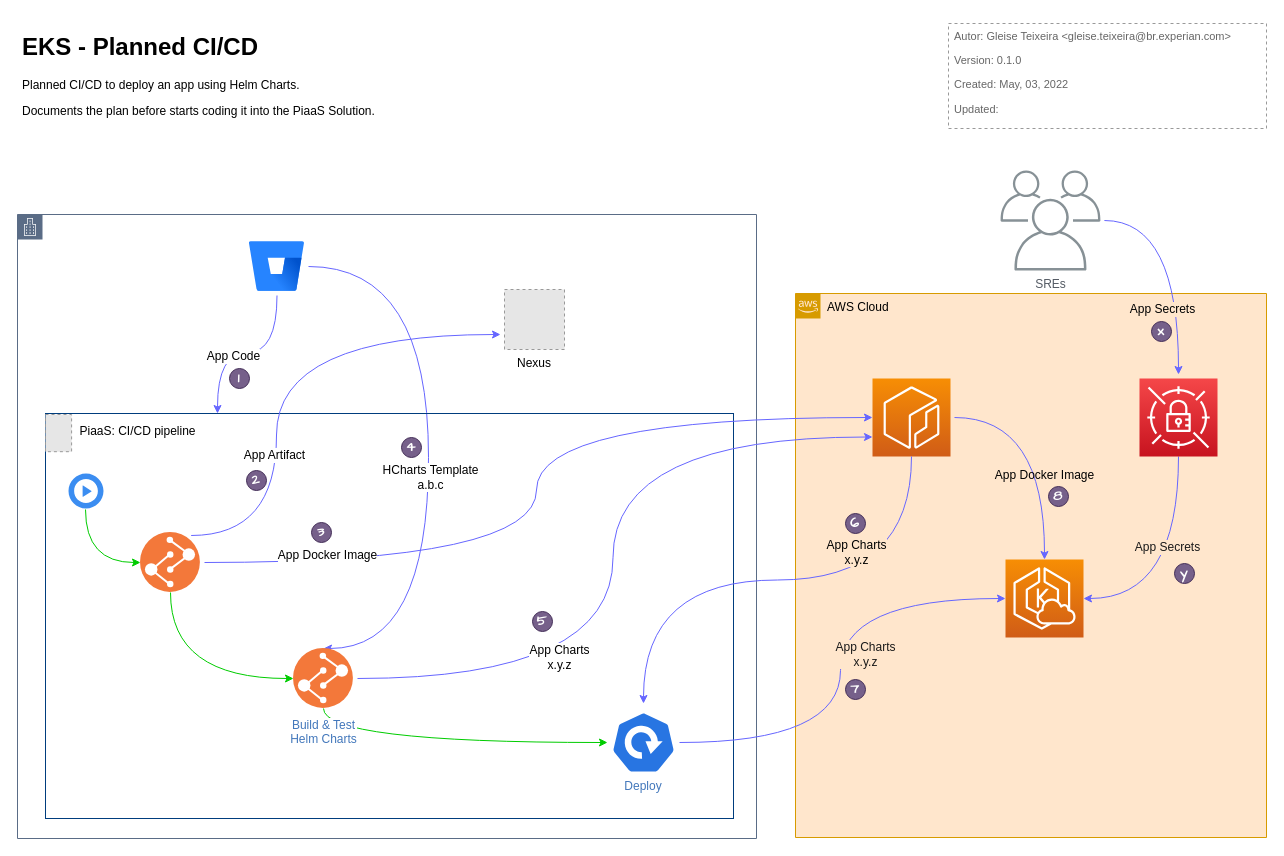
This 1284x856 diagram has some shape labels left out. Grey dashed boxes stand in for pictures. The box of each missing label's shape, as (x1, y1, x2, y2) in pixels:
BitBkucket: (249, 241, 304, 291)
Build & Test Application: (140, 532, 200, 592)
ECR: (872, 378, 950, 456)
EKS: (1004, 558, 1084, 638)
On-Premise: (16, 214, 756, 838)
Secrets Manager: (1138, 378, 1218, 456)
